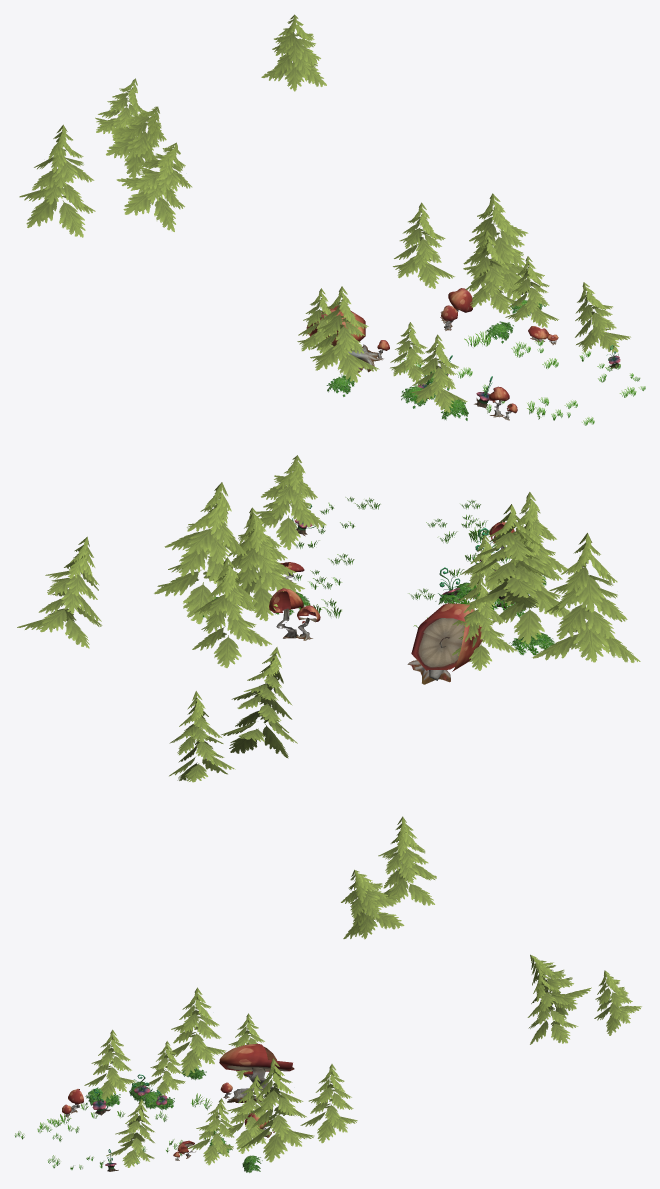
Rendered from boss2_zhibei_1.fbx.
The picture shows the model from 3 angles, top to bottom: view 1: azimuth 30°, elevation 25°; view 2: azimuth 150°, elevation 25°; view 3: azimuth 270°, elevation 25°; orthographic projection. The views are drawn at different scales.
Visible parts, largest first — view 1: boss2_zhibei_1; view 2: boss2_zhibei_1; view 3: boss2_zhibei_1.
Boxes of the visible parts, x1,y1,x2,y2 form: boss2_zhibei_1: (19, 14, 645, 425); boss2_zhibei_1: (17, 455, 640, 782); boss2_zhibei_1: (14, 816, 641, 1172).
Bounding box in the file's own units: 3343 × 1611 × 4564.
